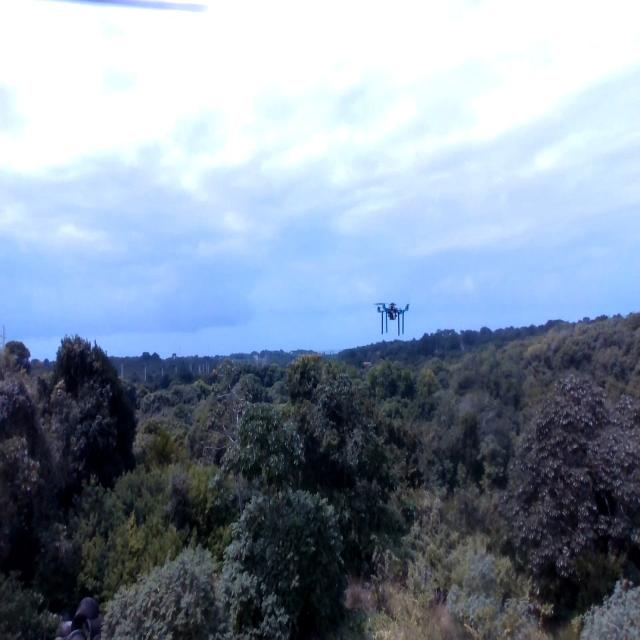-uav-: (370, 290, 414, 344)
